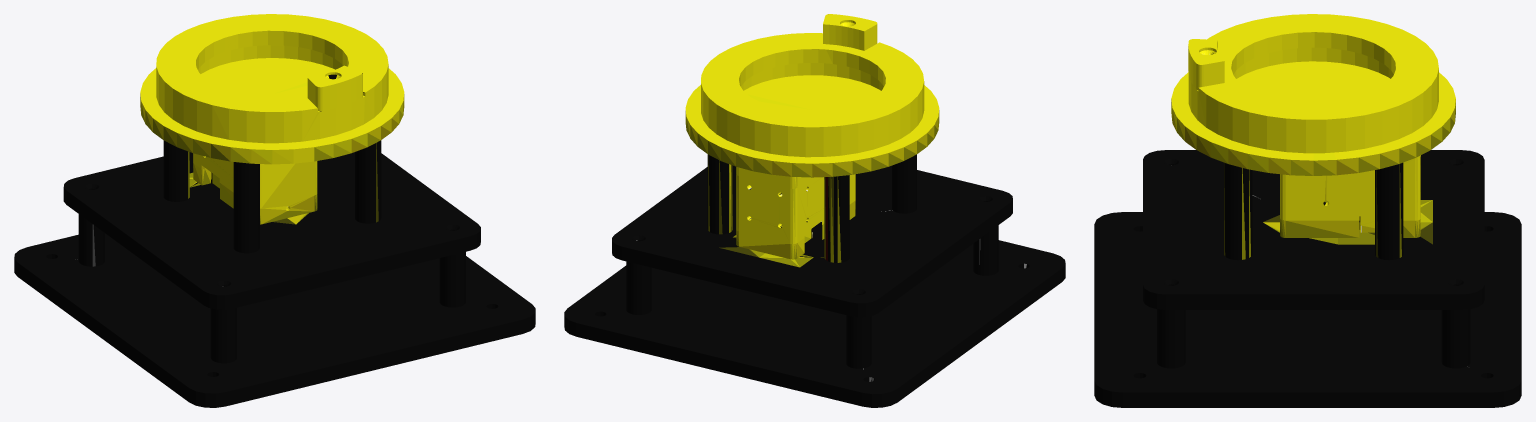
Rendered from HansCuteLink0.dae.
The picture shows the model from 3 angles, left to right: view 1: azimuth 30°, elevation 25°; view 2: azimuth 150°, elevation 25°; view 3: azimuth 270°, elevation 25°; orthographic projection. The views are drawn at different scales.
Parts seen in each view (by area): view 1: HansCuteLink0; view 2: HansCuteLink0; view 3: HansCuteLink0.
Boxes of the visible parts, <box> form: HansCuteLink0: <box>14,14,535,407</box>; HansCuteLink0: <box>564,14,1065,407</box>; HansCuteLink0: <box>1094,14,1521,407</box>.
Size of the model in its own units: 0.15 by 0.15 by 0.1057.
